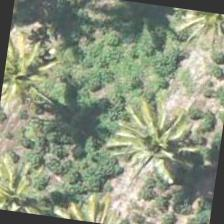Kelapa_Sawit: (100, 94, 202, 196), (0, 26, 73, 125), (0, 154, 61, 218)
